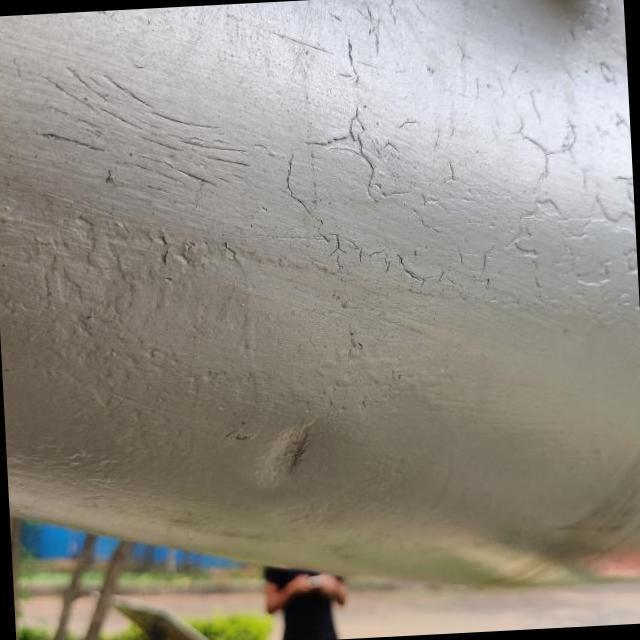dent: (253, 418, 315, 492)
